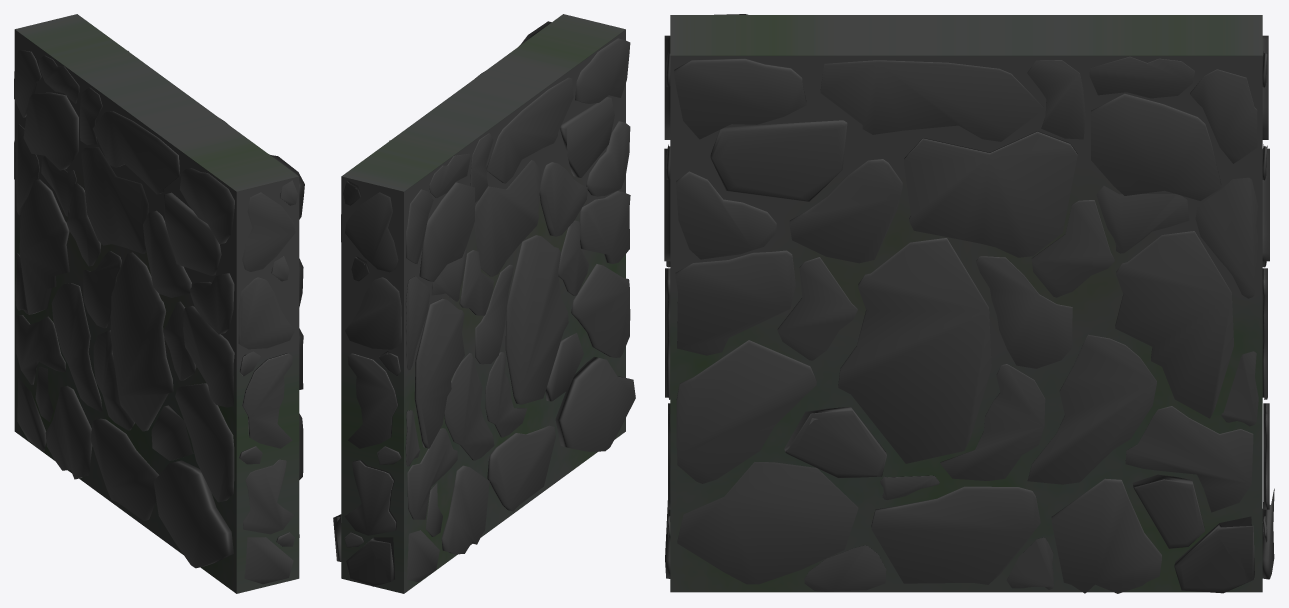
Rendered from parede.fbx.
The picture shows the model from 3 angles, left to right: view 1: azimuth 30°, elevation 25°; view 2: azimuth 150°, elevation 25°; view 3: azimuth 270°, elevation 25°; orthographic projection. The views are drawn at different scales.
Parts seen in each view (by area): view 1: wall, Cube.044, Cube.035, Cube.045, Cube.049, Cube.039, Cube.038, Cube.048, Cube.034, Cube.053, Cube.066, Cube.041 (+23 smaller); view 2: wall, Cube.044, Cube.035, Cube.045, Cube.049, Cube.048, Cube.039, Cube.038, Cube.034, Cube.053, Cube.076, Cube.046 (+23 smaller); view 3: wall, Cube.012, Cube.017, Cube.003, Cube.013, Cube.016, Cube.006, Cube.007, Cube.021, Cube.002, Cube.009, Cube (+24 smaller).
Boxes of the visible parts, x1,y1,x2,y2 form: wall: [14, 14, 299, 593]; Cube.044: [110, 252, 173, 431]; Cube.035: [153, 460, 233, 568]; Cube.045: [19, 179, 69, 314]; Cube.049: [81, 147, 148, 253]; Cube.039: [175, 383, 234, 502]; Cube.038: [90, 418, 158, 520]; Cube.048: [92, 111, 180, 194]; Cube.034: [23, 92, 78, 170]; Cube.053: [51, 283, 102, 411]; Cube.066: [242, 353, 292, 448]; Cube.041: [183, 306, 234, 407]; wall: [341, 14, 625, 593]; Cube.044: [505, 235, 568, 404]; Cube.035: [555, 357, 635, 451]; Cube.045: [414, 298, 464, 448]; Cube.049: [474, 160, 541, 276]; Cube.048: [486, 77, 573, 183]; Cube.039: [571, 264, 630, 357]; Cube.038: [487, 425, 555, 511]; Cube.034: [419, 182, 474, 281]; Cube.053: [444, 353, 494, 460]; Cube.076: [347, 353, 398, 448]; Cube.046: [441, 465, 489, 554]; wall: [670, 15, 1262, 592]; Cube.012: [838, 238, 991, 463]; Cube.017: [904, 131, 1077, 257]; Cube.003: [677, 462, 858, 584]; Cube.013: [1115, 231, 1233, 418]; Cube.016: [820, 60, 1043, 141]; Cube.006: [871, 486, 1040, 584]; Cube.007: [676, 340, 816, 483]; Cube.021: [1027, 334, 1156, 484]; Cube.002: [1091, 93, 1221, 200]; Cube.009: [675, 250, 795, 355]; Cube: [710, 120, 847, 201].
Size of the model in its own units: 79.21 by 350 by 361.
2 materials, 1 textured.
